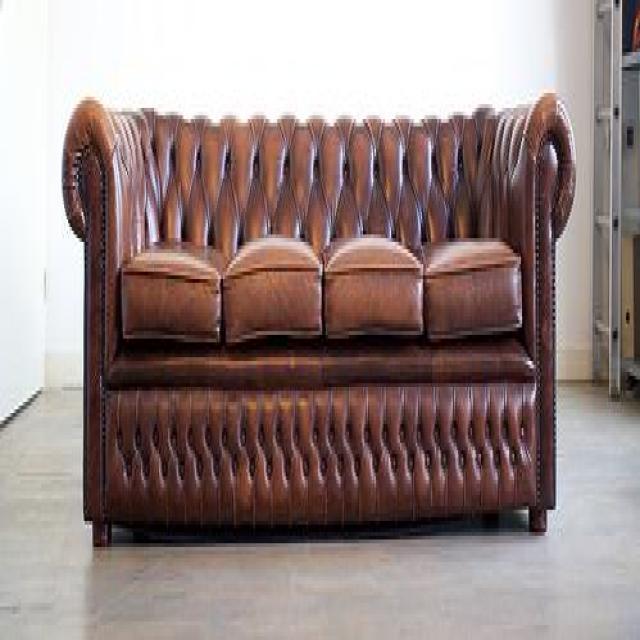sofa: (61, 90, 579, 549)
